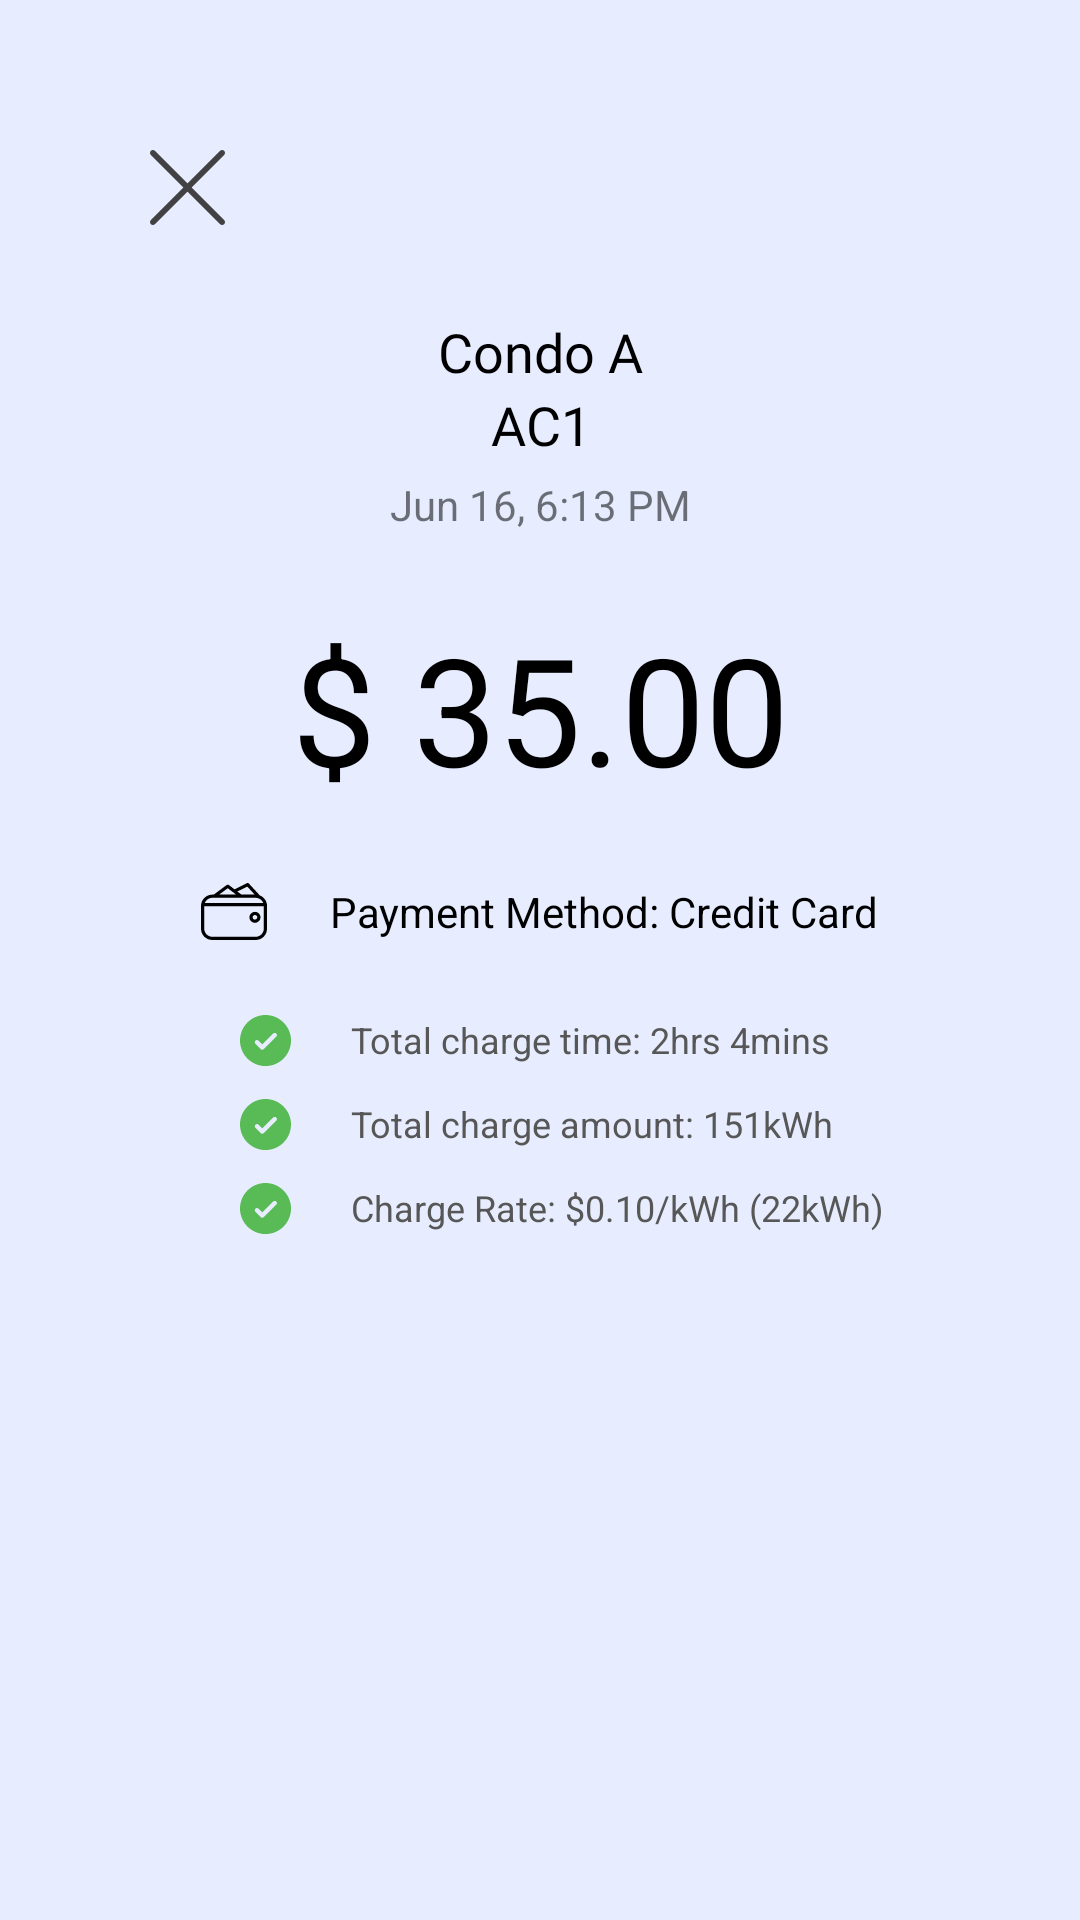

Point at icon controls on the screen. Image size 1080 x 1920, points as point (x, y).
close: point (187, 187)
tick: point (265, 1040), point (265, 1124), point (265, 1208)
wallet: point (234, 911)
